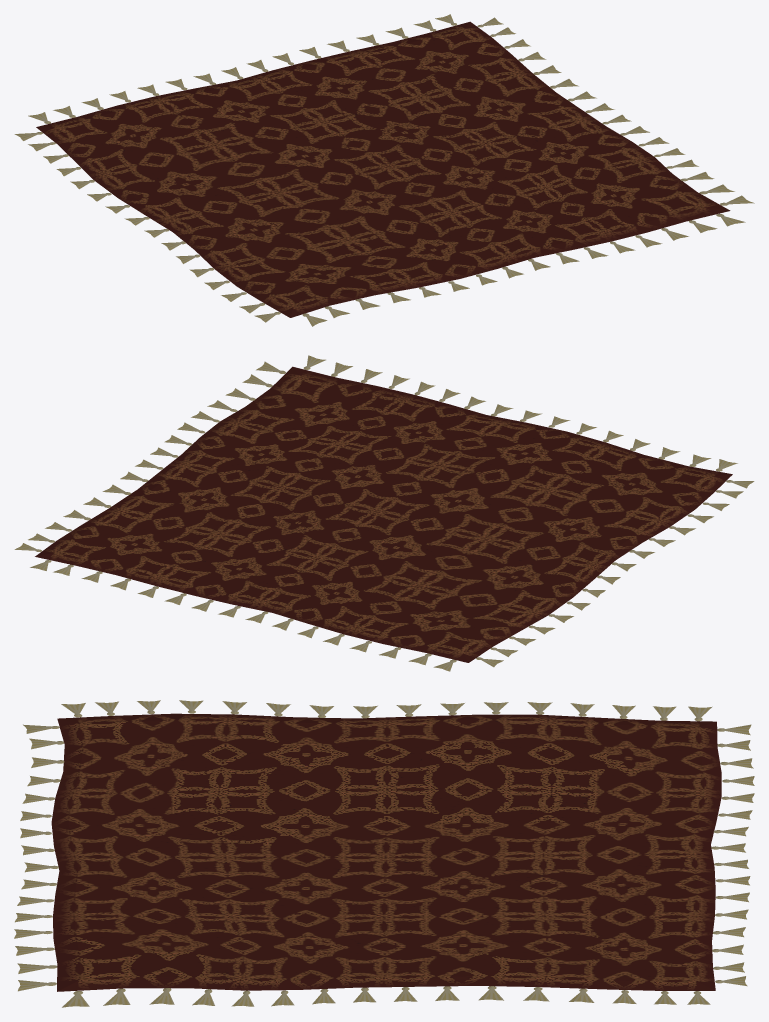
The model's file is Carpet.fbx.
3 renders of one model, top to bottom at view 1: azimuth 30°, elevation 25°; view 2: azimuth 150°, elevation 25°; view 3: azimuth 270°, elevation 25°, orthographic. The views are drawn at different scales.
Parts seen in each view (by area): view 1: Plane; view 2: Plane; view 3: Plane.
Part boxes in pixels (bbox=[...]): Plane: bbox=[14, 14, 754, 326]; Plane: bbox=[14, 355, 754, 671]; Plane: bbox=[14, 700, 754, 1007].
Bounding box in the file's own units: 1285 × 5.71 × 1308.
